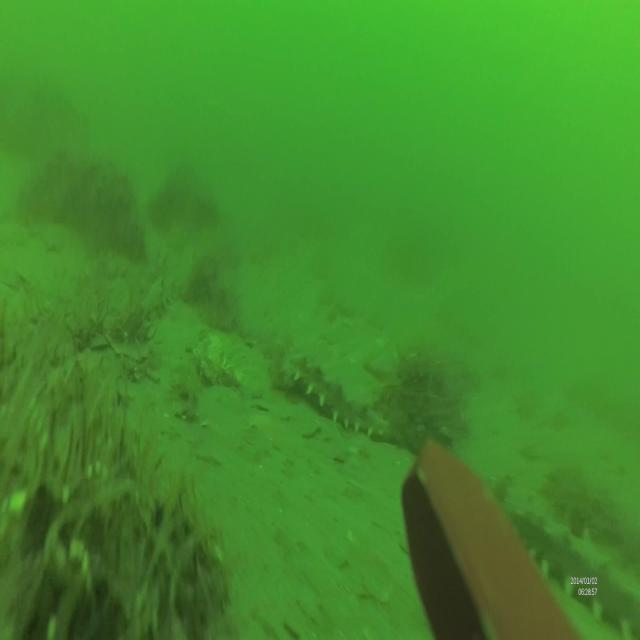holothurian: (497, 499, 640, 640), (291, 360, 391, 446)
